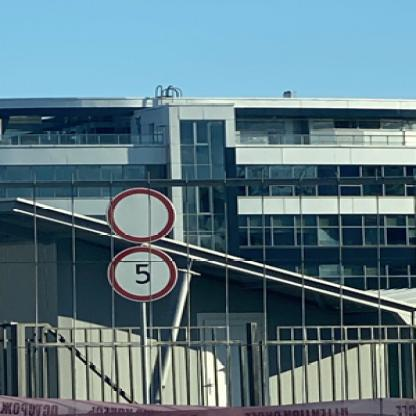speedlimit: (105, 246, 175, 300)
